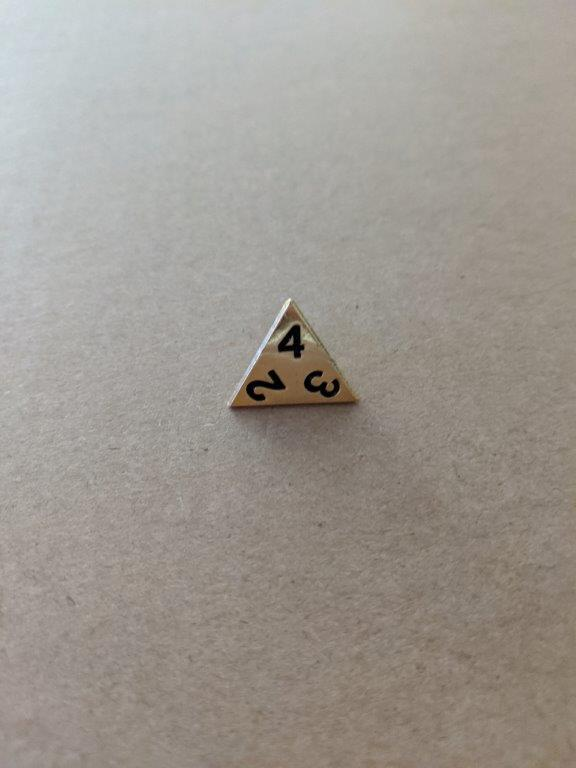d4-4: (223, 297, 362, 410)
